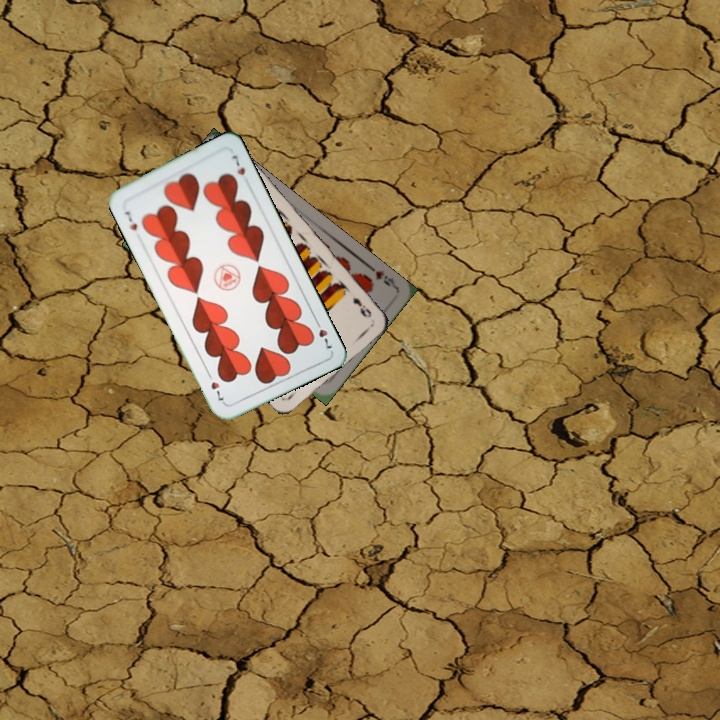E9: (348, 293, 374, 321)
H7: (310, 315, 335, 351), (121, 207, 140, 233)
H9: (364, 261, 399, 291)
